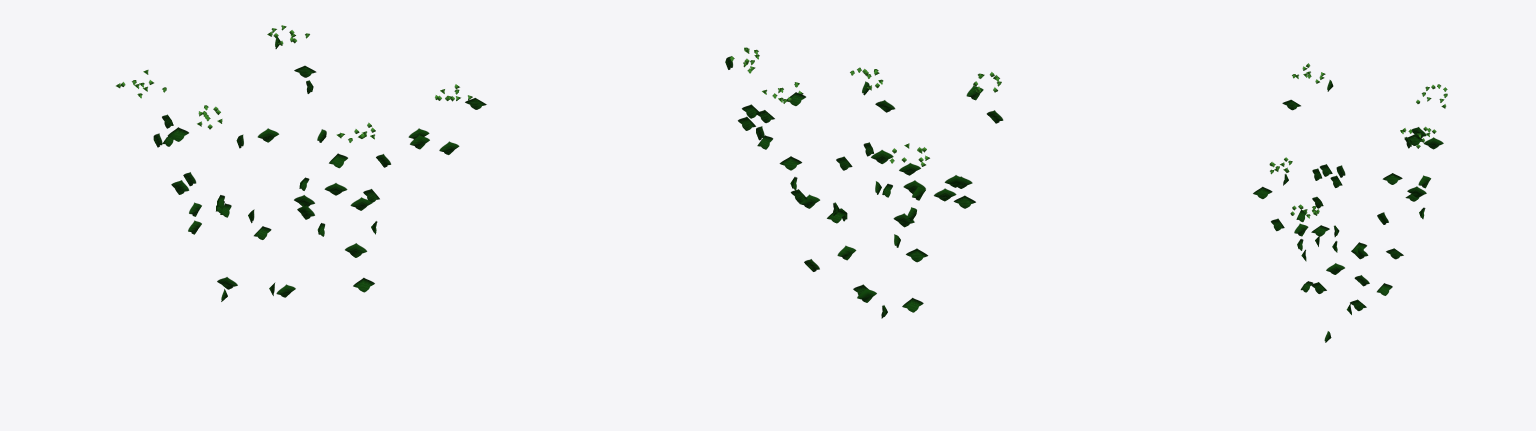
Rendered from Shrub_Elderberry.glb.
3 renders of one model, left to right at view 1: azimuth 30°, elevation 25°; view 2: azimuth 150°, elevation 25°; view 3: azimuth 270°, elevation 25°, orthographic. The views are drawn at different scales.
Parts seen in each view (by area): view 1: Shrub_Elderberry; view 2: Shrub_Elderberry; view 3: Shrub_Elderberry.
Boxes of the visible parts, box(x1,y1,x2,y2) form: Shrub_Elderberry: box(116, 25, 486, 301); Shrub_Elderberry: box(725, 47, 1003, 318); Shrub_Elderberry: box(1253, 63, 1447, 342).
Size of the model in its own units: 3.29 by 2.22 by 2.2.
1 material, 1 textured.
